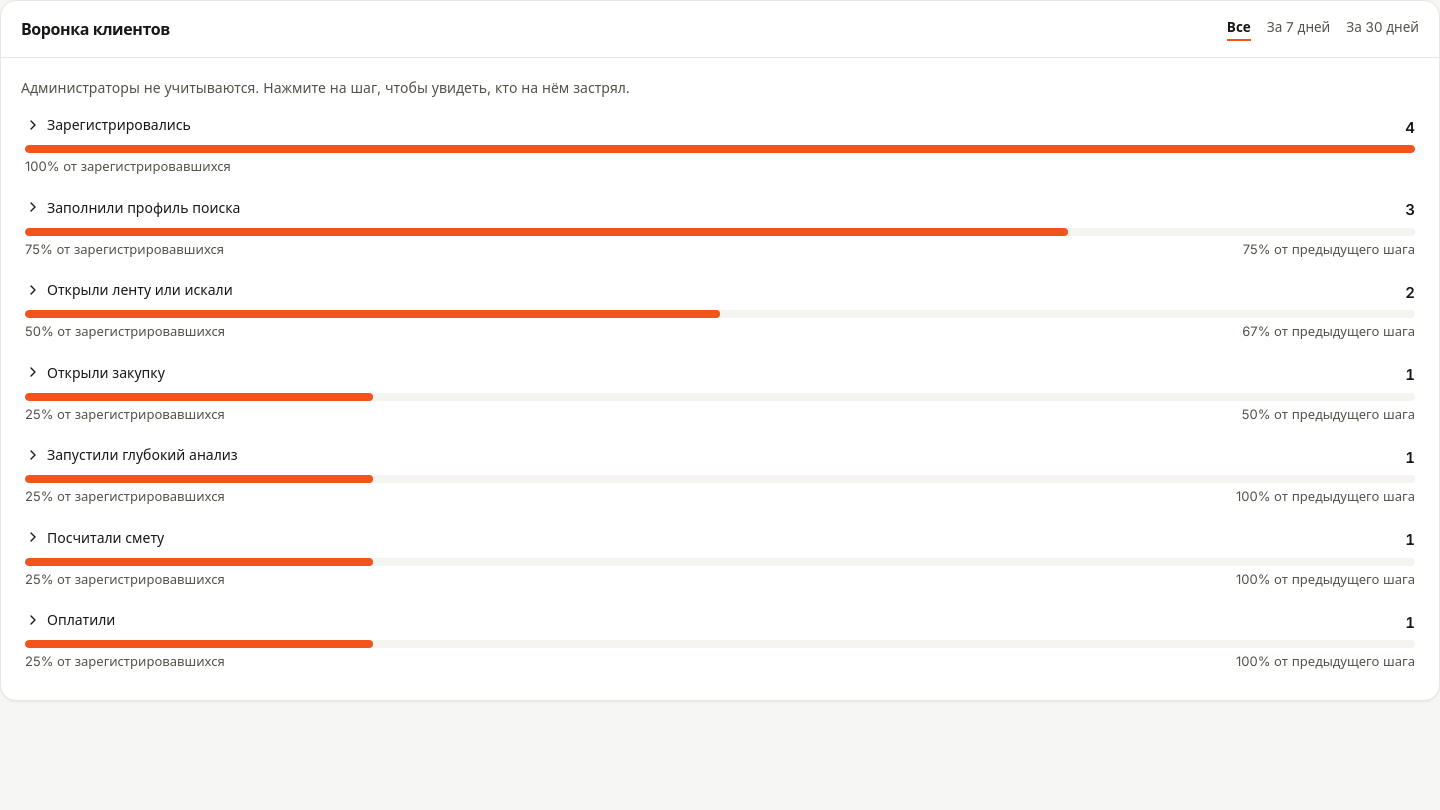
Test case: AdminFunnel › клик по шагу раскрывает тех, кто застрял здесь, с остатком пробного и активностью; повторный клик сворачивает
Click the button that starts with "Заполнили профиль поиска": (720, 228) [21, 189, 1419, 267]
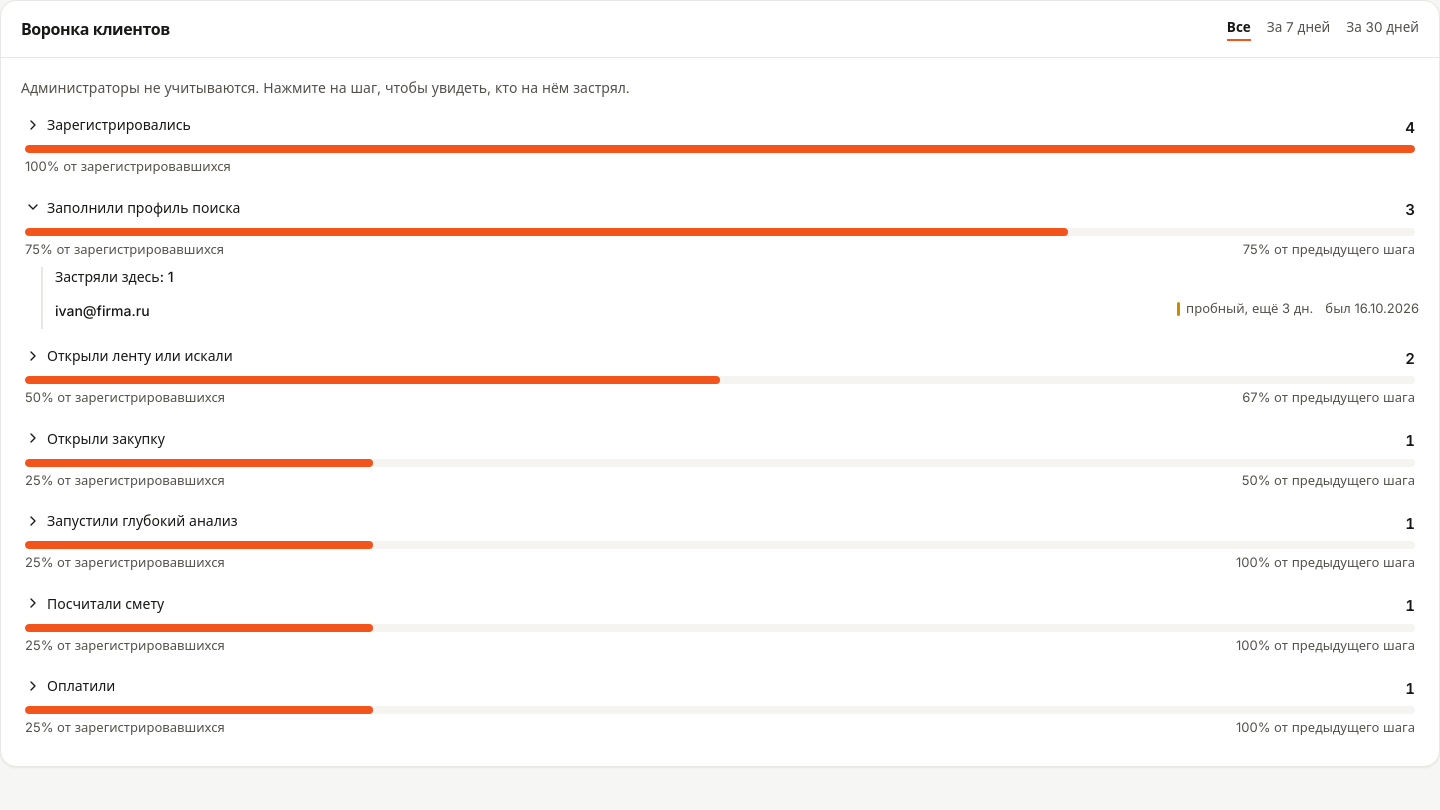
Check: the text "Застряли здесь: 1" is shown, box [55, 268, 174, 285]
Check: the text "ivan@firma.ru" is shown, box [55, 301, 150, 321]
Check: the text "пробный, ещё 3 дн." is shown, box [1177, 299, 1313, 319]
Click the button that starts with "Заполнили профиль поиска": (720, 228) [21, 189, 1419, 267]
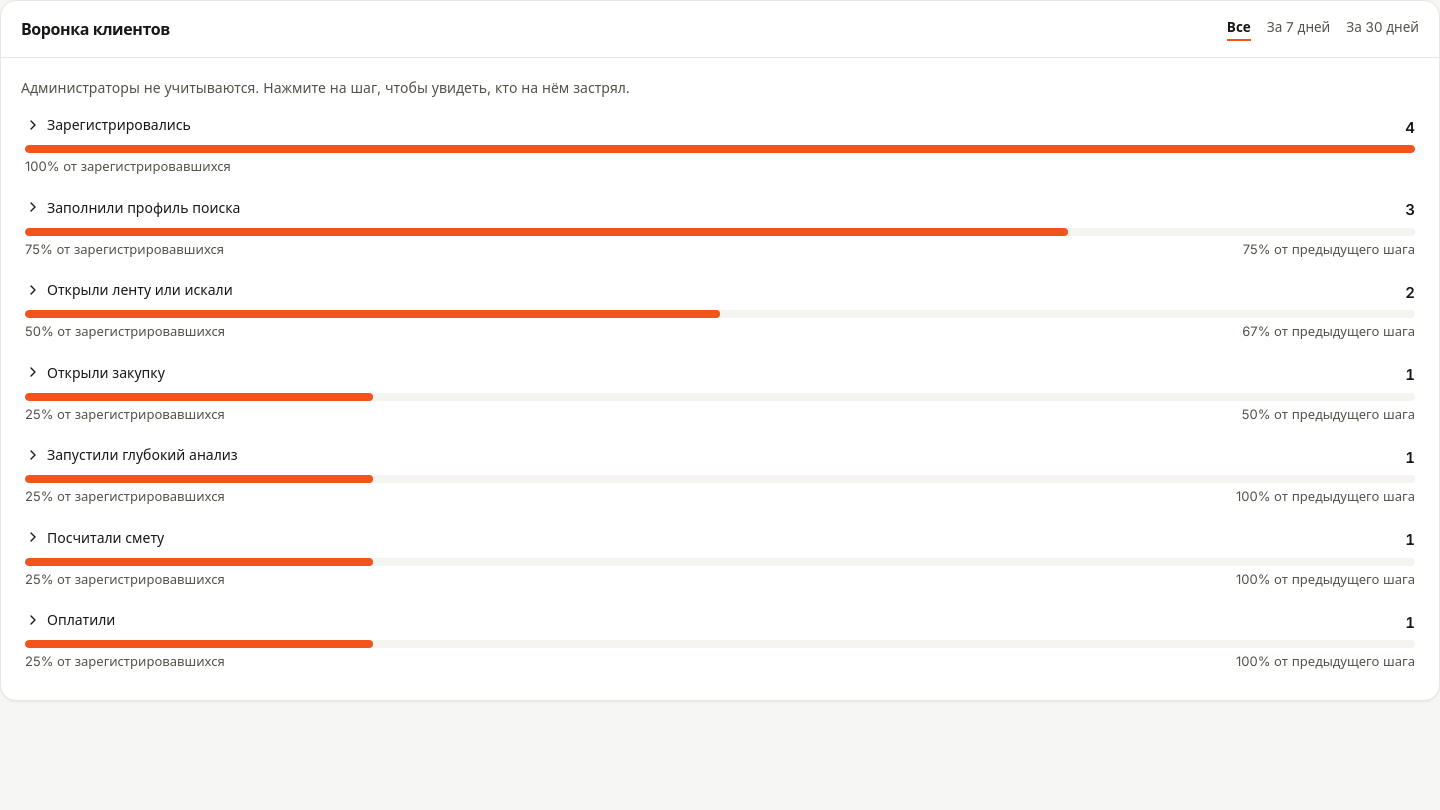
Check: the element with test id "funnel-people-profile" is gone
